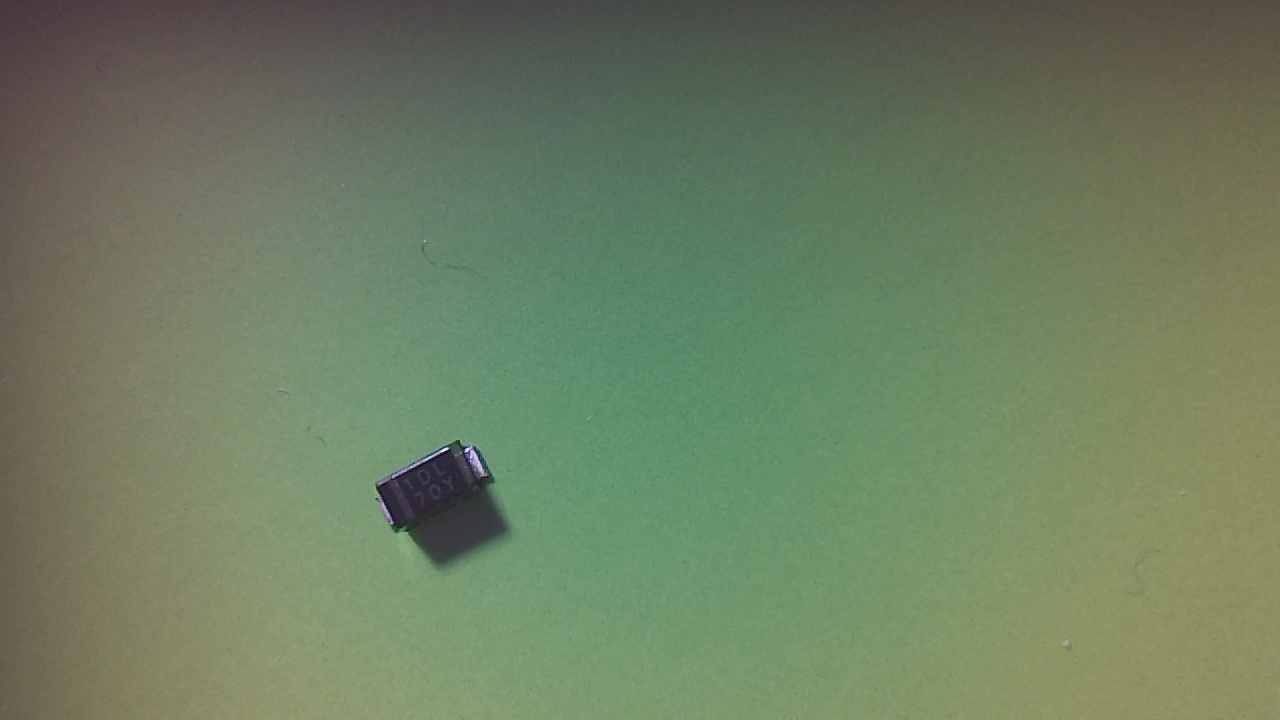Diode: (377, 441, 504, 540)
